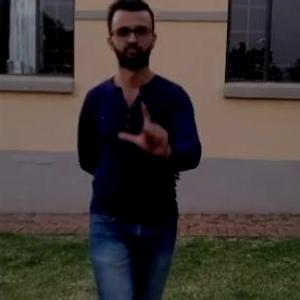land_hand: (113, 94, 182, 156)
